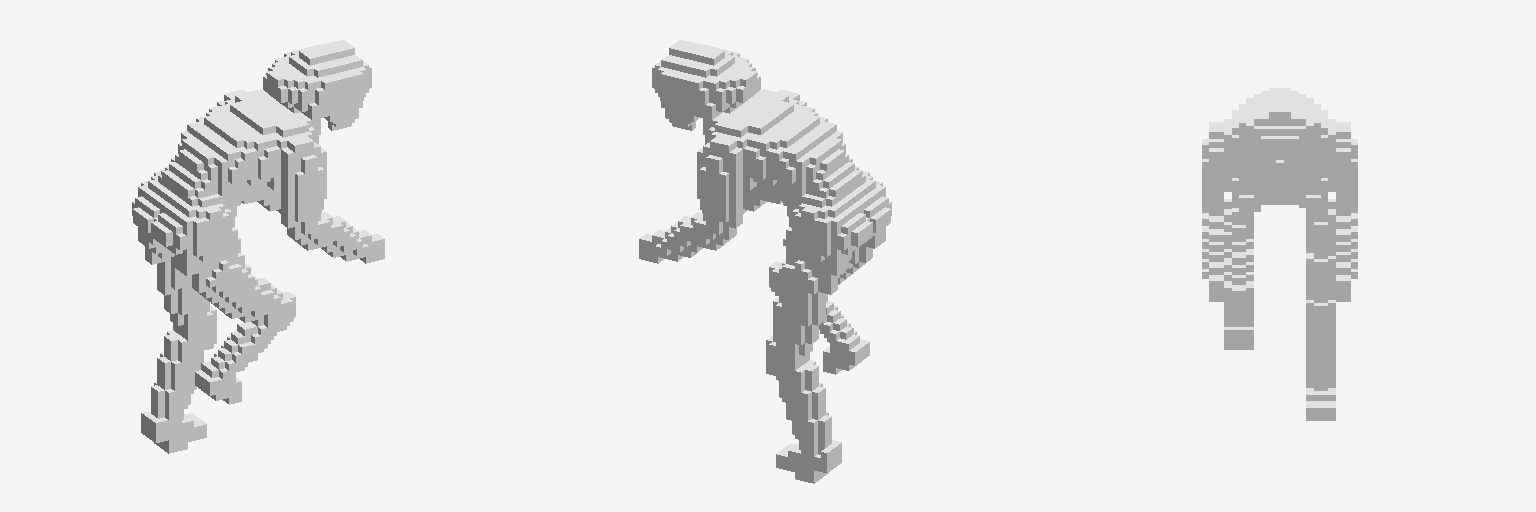
The model's file is bike-0-biker.obj.
The picture shows the model from 3 angles: view 1: azimuth 30°, elevation 25°; view 2: azimuth 150°, elevation 25°; view 3: azimuth 270°, elevation 25°; orthographic projection.
Visible parts, largest first — view 1: biker; view 2: biker; view 3: biker.
Boxes of the visible parts, x1,y1,x2,y2 form: biker: [132, 40, 384, 453]; biker: [639, 40, 891, 483]; biker: [1202, 88, 1357, 420].
Bounding box in the file's own units: 3.3 × 5.6 × 2.1.